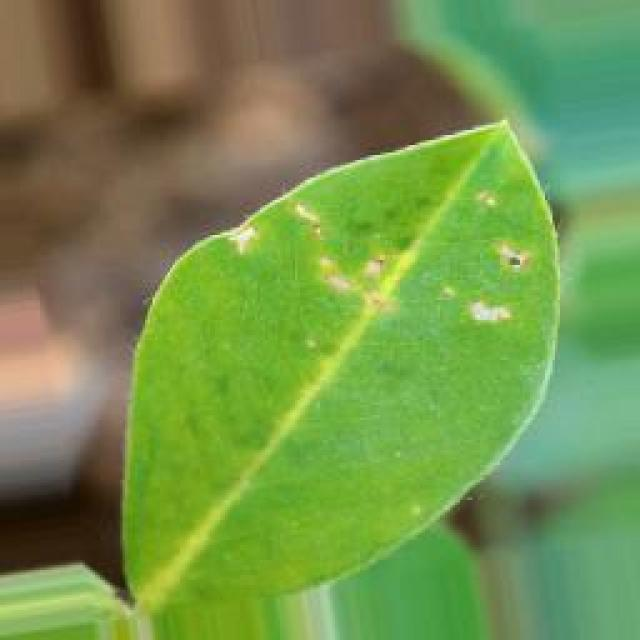Yellow_and_black_sigatoka: (135, 105, 557, 640)
